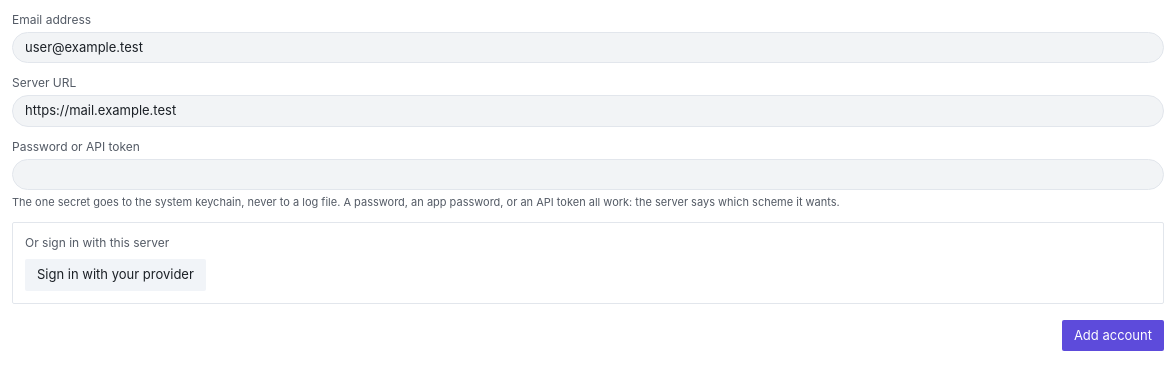
Test: a begun jmap sign-in › a refused begin surfaces its sentence and brings the buttons back
Click the button "Sign in with your provider" at x=115, y=275, box [25, 260, 206, 291]
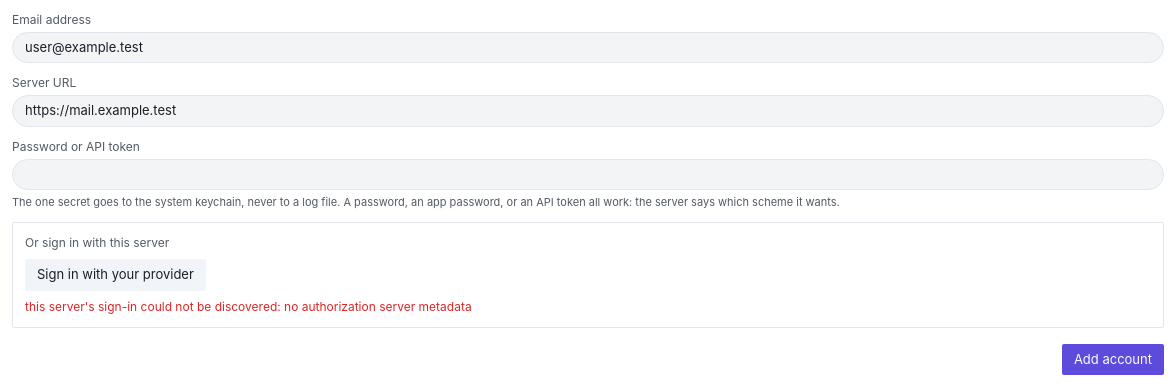
Expected: the message is shown, [25, 299, 472, 314]
